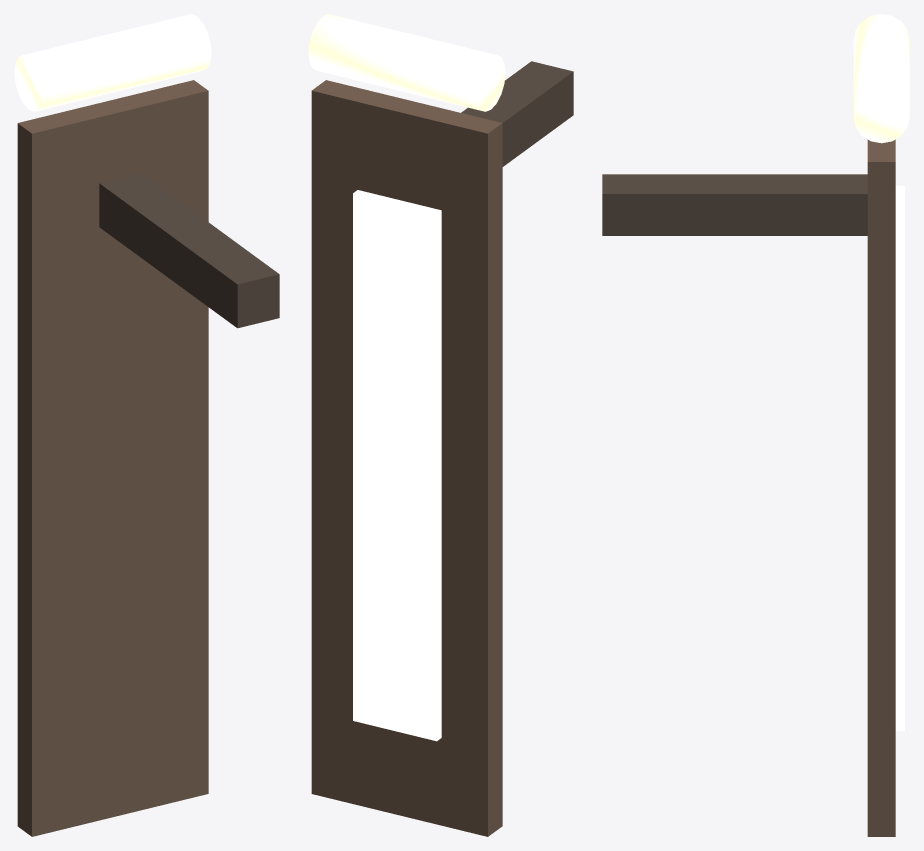
The model's file is prop_sode_kanban.glb.
3 views of the same model, side by side, from view 1: azimuth 30°, elevation 25°; view 2: azimuth 150°, elevation 25°; view 3: azimuth 270°, elevation 25° (orthographic). The views are drawn at different scales.
Visible parts, largest first — view 1: sode_kanban; view 2: sode_kanban; view 3: sode_kanban.
Boxes of the visible parts, x1,y1,x2,y2 form: sode_kanban: [14, 14, 279, 836]; sode_kanban: [308, 14, 573, 836]; sode_kanban: [602, 14, 909, 836].
Bounding box in the file's own units: 0.42 × 1.76 × 0.66.
